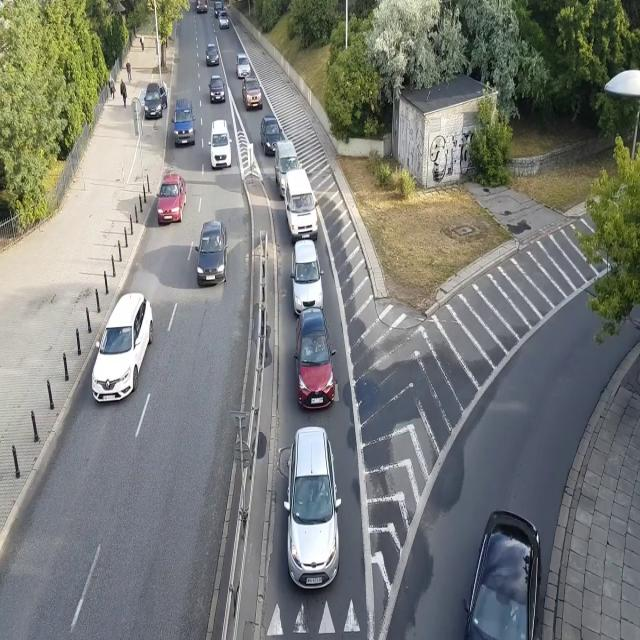car: (462, 507, 542, 640), (282, 428, 342, 592), (91, 292, 154, 406), (293, 306, 337, 406), (290, 239, 325, 313), (195, 220, 228, 286), (156, 173, 186, 224), (208, 119, 232, 170), (260, 115, 283, 156), (144, 82, 167, 120), (242, 76, 263, 110), (208, 75, 226, 103), (236, 53, 251, 77), (205, 43, 219, 67), (218, 10, 230, 29)
truck: (195, 0, 208, 14)
van: (284, 169, 319, 243), (274, 139, 303, 199), (171, 98, 196, 147), (214, 2, 223, 18)
